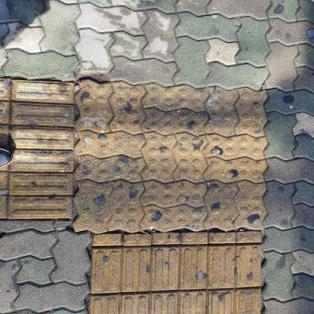Podoctatil: (0, 72, 268, 313)
